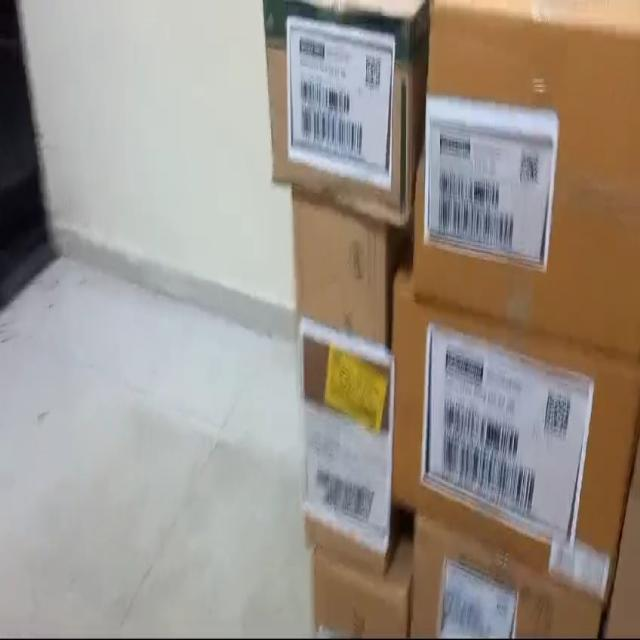BoxFace: (412, 11, 640, 347), (396, 277, 617, 601), (292, 197, 396, 575), (264, 0, 409, 230)
